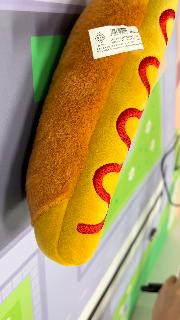hotdog: (25, 1, 178, 267)
